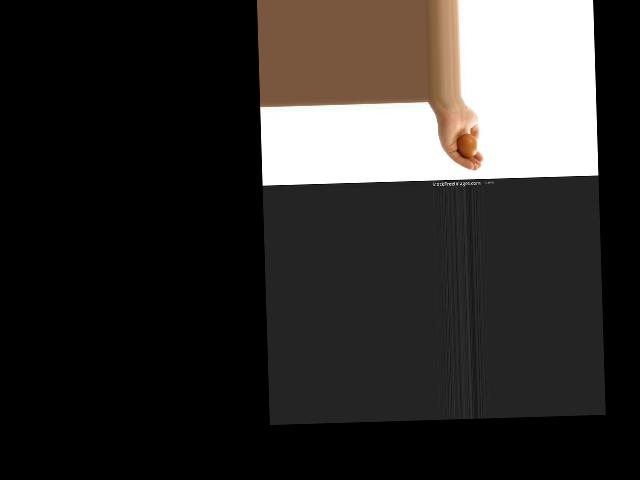egg: (457, 133, 477, 159)
